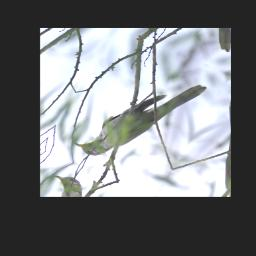Cuckoo: (72, 54, 212, 182)
